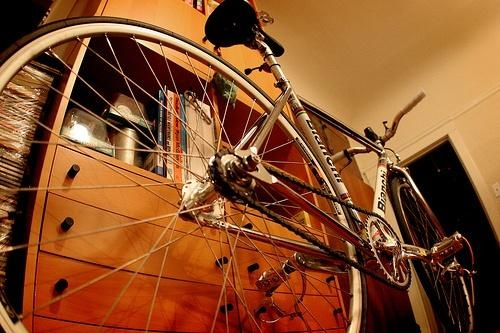bicycle: (1, 1, 479, 333)
